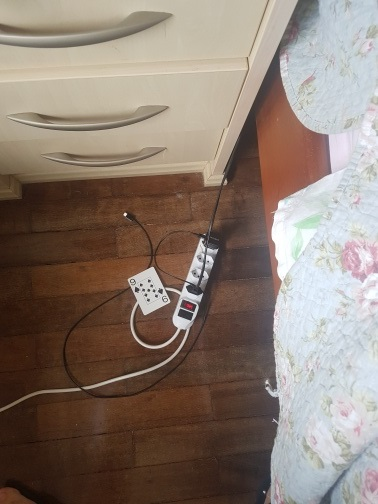nine: (128, 265, 171, 314)
